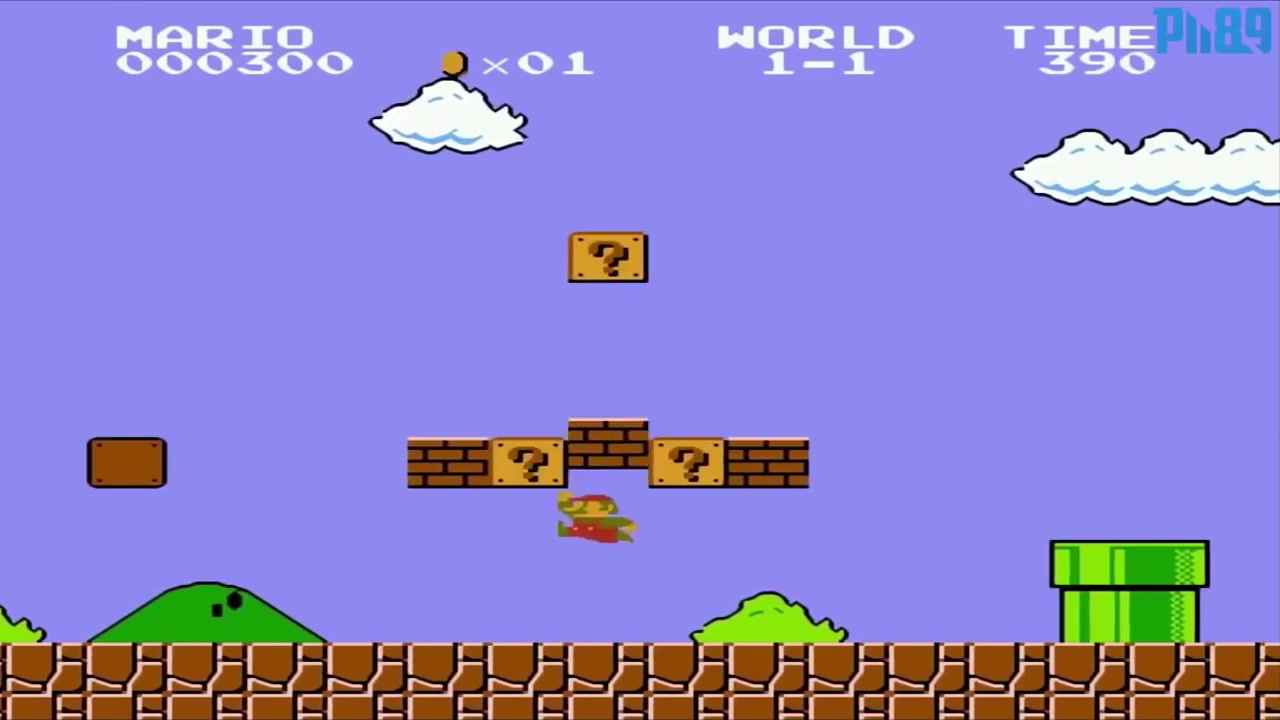mario: (546, 479, 641, 552)
